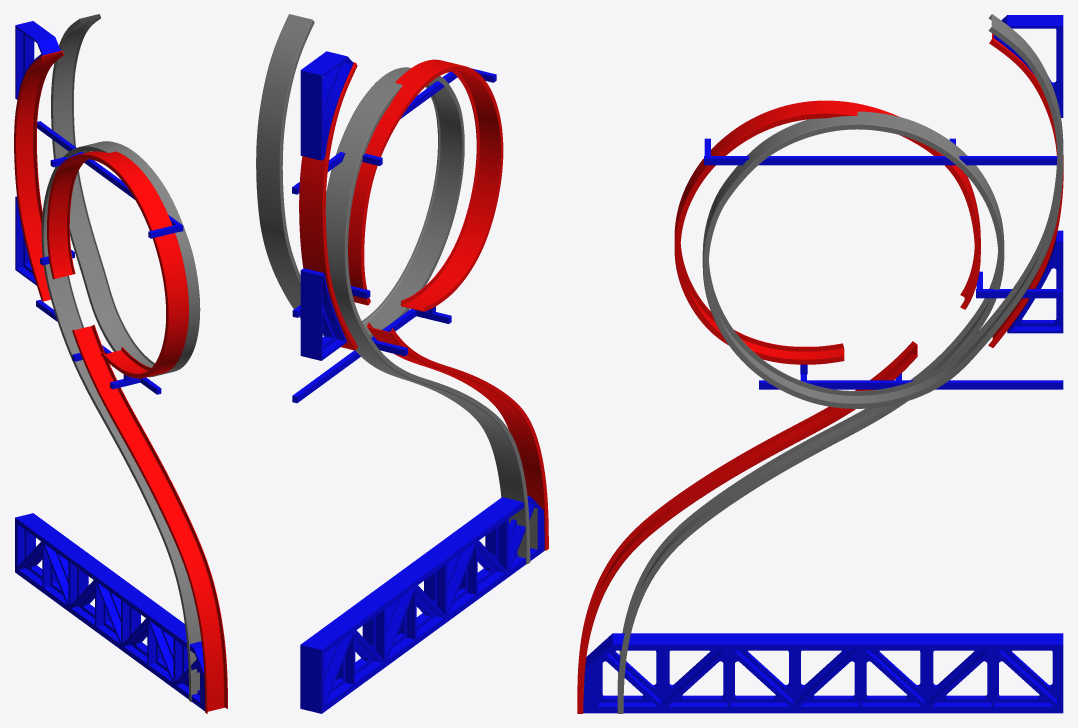
The model's file is hotwheelsKreg.fbx.
3 renders of one model, left to right at view 1: azimuth 30°, elevation 25°; view 2: azimuth 150°, elevation 25°; view 3: azimuth 270°, elevation 25°, orthographic. The views are drawn at different scales.
Parts seen in each view (by area): view 1: Layer 01, Layer 03, Object_20; view 2: Layer 03, Object_20, Layer 01; view 3: Layer 03, Object_20, Layer 01.
Part boxes in pixels (left/top/right/bottom): Layer 01: left=14, top=51, right=227, bottom=713; Layer 03: left=15, top=21, right=204, bottom=710; Object_20: left=41, top=14, right=201, bottom=702; Layer 03: left=292, top=51, right=544, bottom=713; Object_20: left=256, top=14, right=530, bottom=564; Layer 01: left=299, top=59, right=548, bottom=550; Layer 03: left=583, top=15, right=1063, bottom=713; Object_20: left=617, top=14, right=1063, bottom=713; Layer 01: left=577, top=33, right=1063, bottom=713.
Size of the model in its own units: 8.4 by 71.39 by 44.29.
